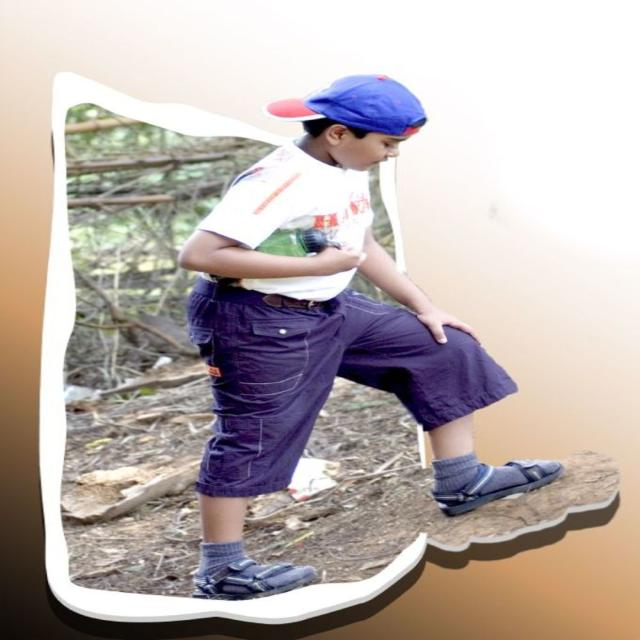Hat: (264, 72, 428, 134)
